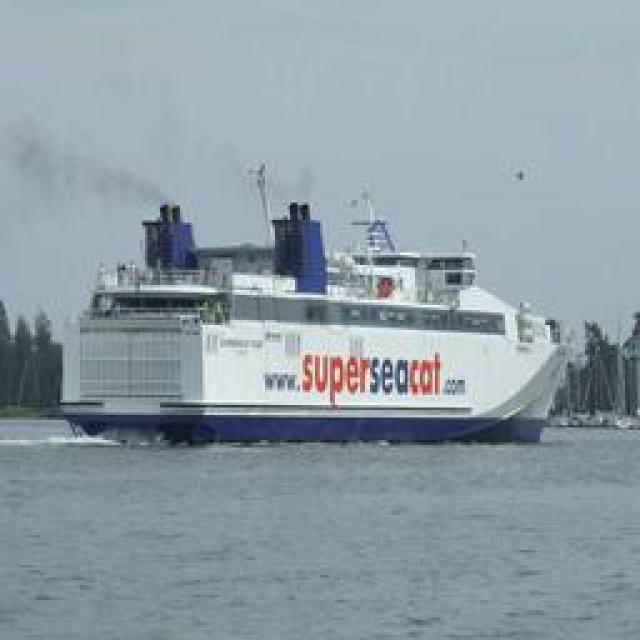Ship: (54, 180, 569, 438)
